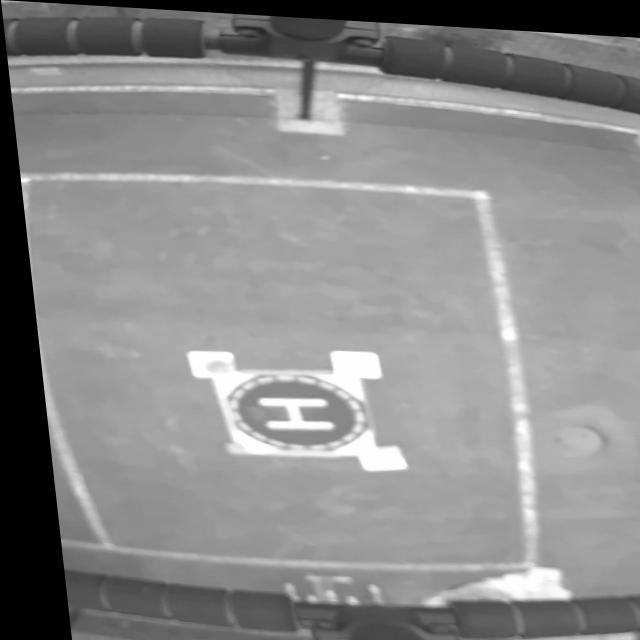Helipad: (246, 394, 325, 428)
